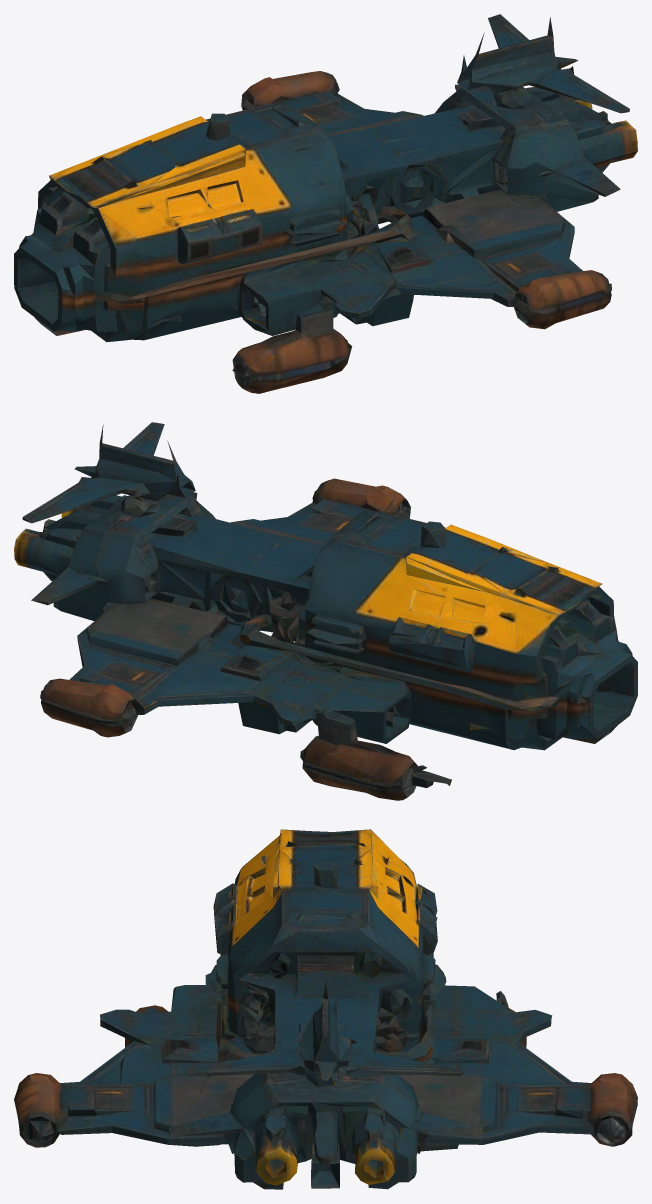
File: nation-g-carrier.glb
The picture shows the model from 3 angles, top to bottom: view 1: azimuth 30°, elevation 25°; view 2: azimuth 150°, elevation 25°; view 3: azimuth 270°, elevation 25°; orthographic projection. The views are drawn at different scales.
Bounding box in the file's own units: 1.9 × 0.7199 × 1.72.
Materials: 1 (1 with a texture image).
